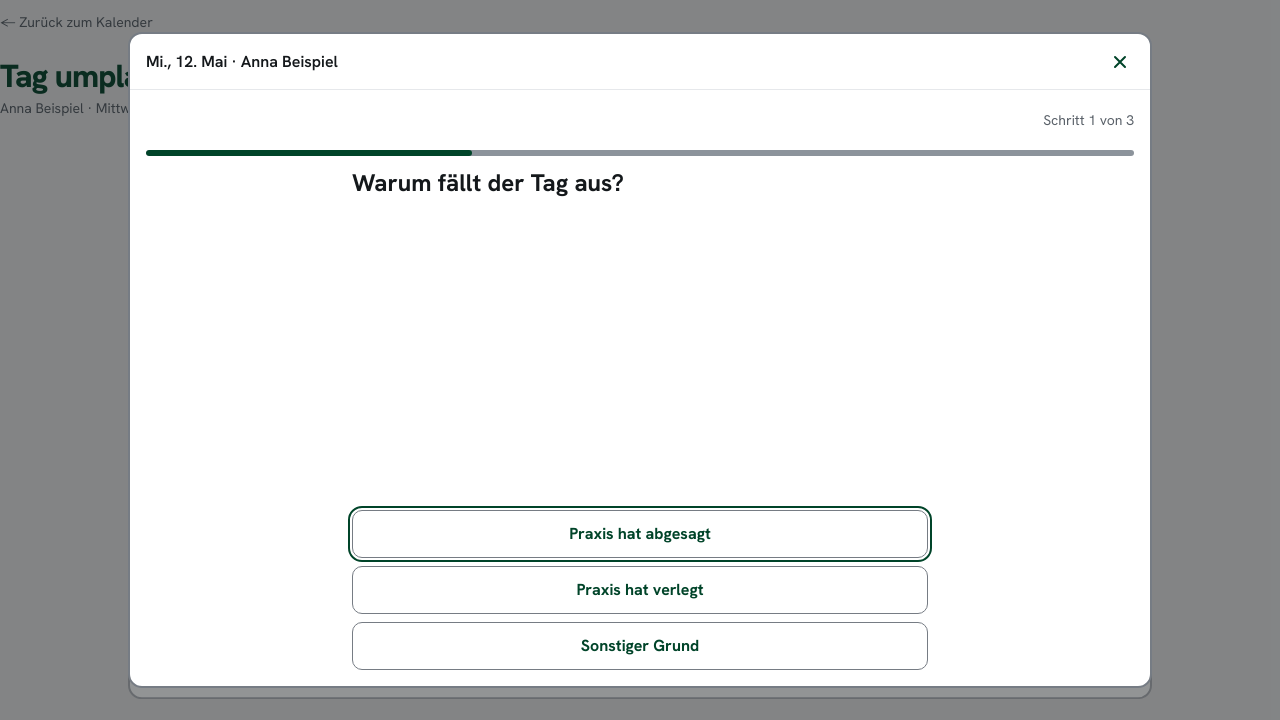
TagUmplanenPage › wählt alle bestätigten Termine vor - abgeschlossene und abgesagte bleiben außen vor
The width and height of the screenshot is (1280, 720).
Click the 2nd button "Praxis hat abgesagt" at (640, 534), box 352,510 -> 928,558
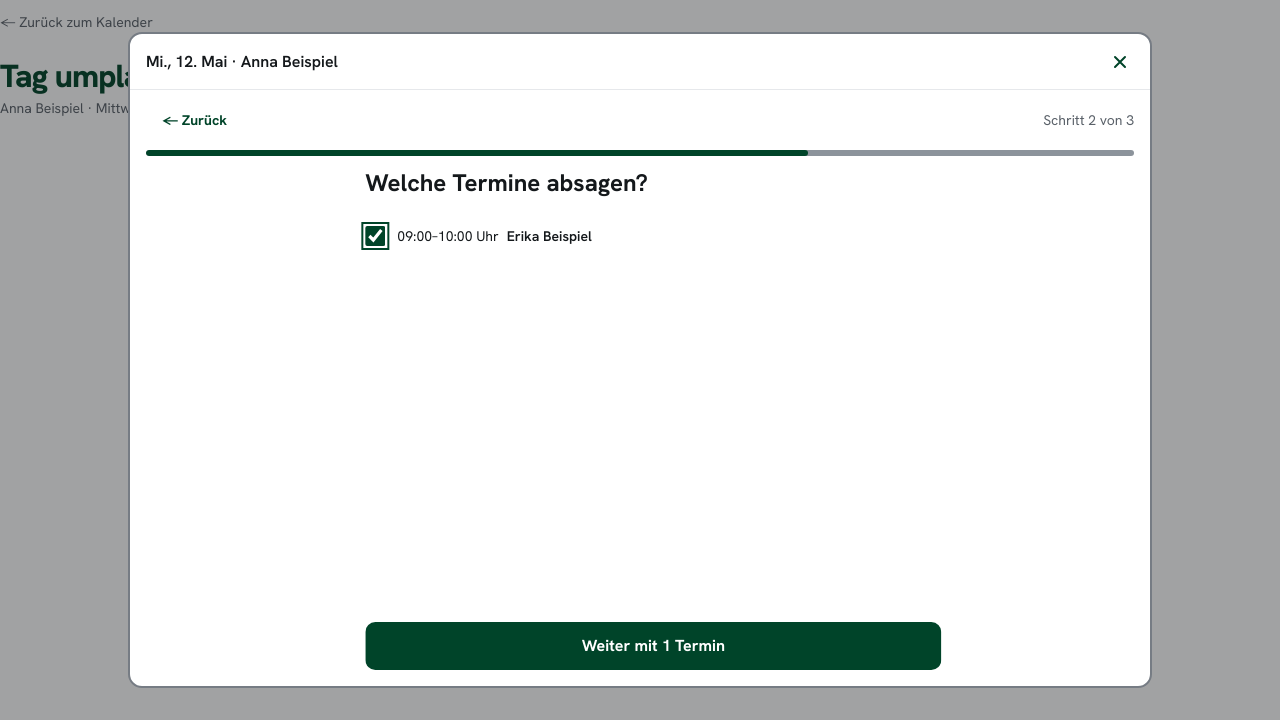
Expected: the number of checkboxes is 1, 356,226 -> 376,246
Expected: the checkbox is checked, 356,226 -> 376,246
Expected: the button "Weiter mit 1 Termin" is enabled, 356,622 -> 932,670
